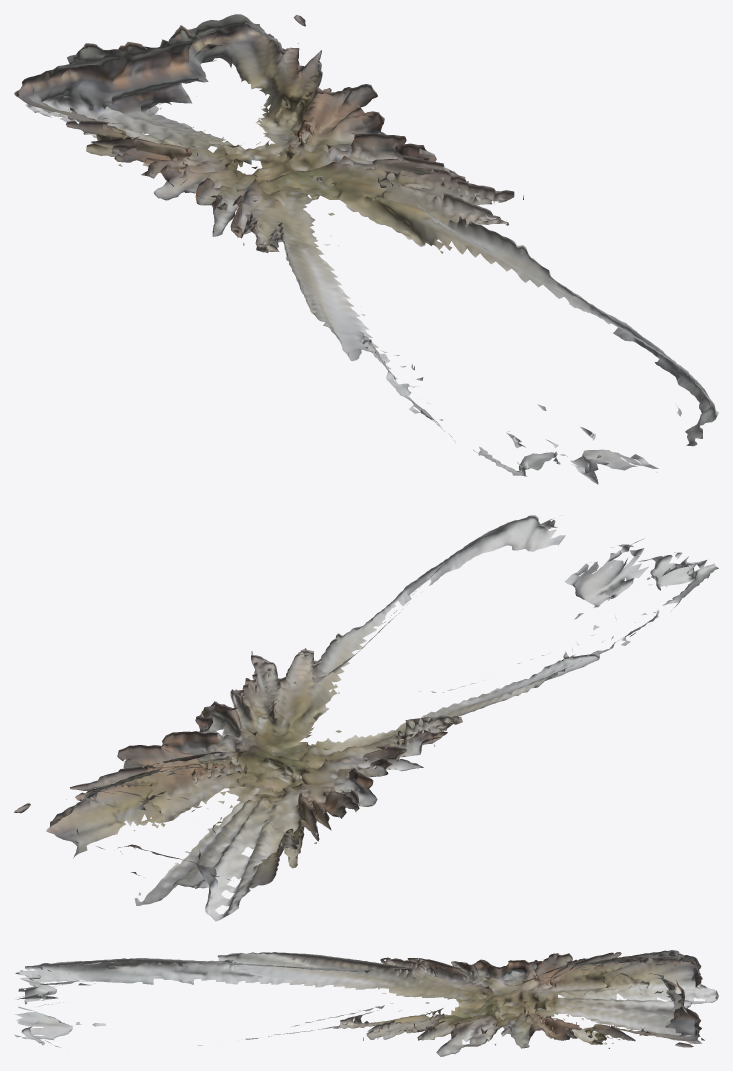
File: world-1770457071500.glb
3 renders of one model, top to bottom at view 1: azimuth 30°, elevation 25°; view 2: azimuth 150°, elevation 25°; view 3: azimuth 270°, elevation 25°, orthographic. The views are drawn at different scales.
Visible parts, largest first — view 1: world; view 2: world; view 3: world.
Part boxes in pixels (x1=…): world: x1=14, y1=14, x2=718, y2=484; world: x1=14, y1=515, x2=718, y2=921; world: x1=14, y1=950, x2=718, y2=1056.
Size of the model in its own units: 22.62 by 7.2 by 68.39.
